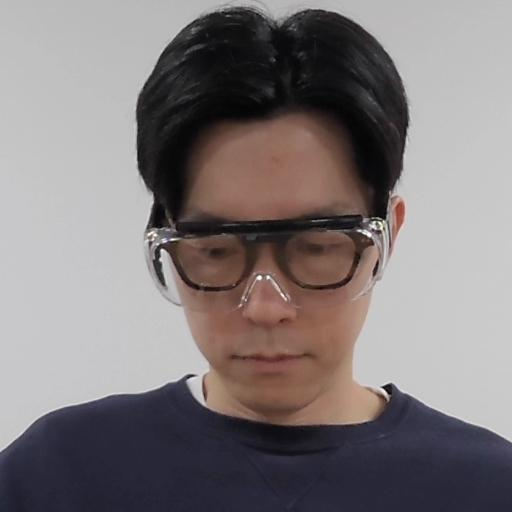glasses: (123, 0, 421, 402)
